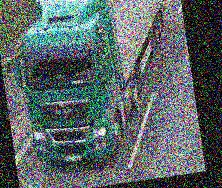truck: (4, 0, 190, 171)
